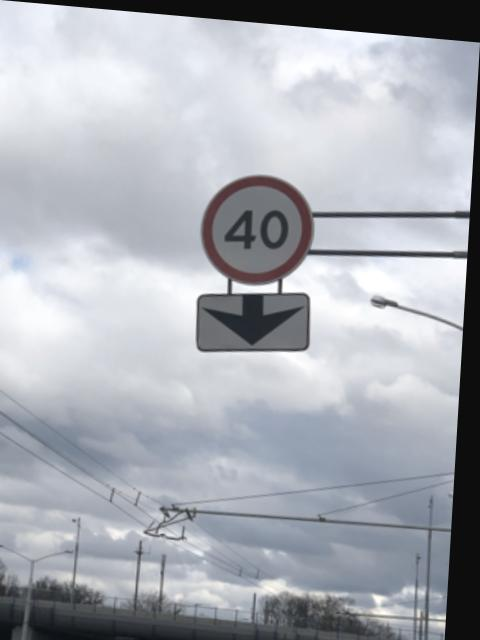limit40: (197, 164, 326, 286)
